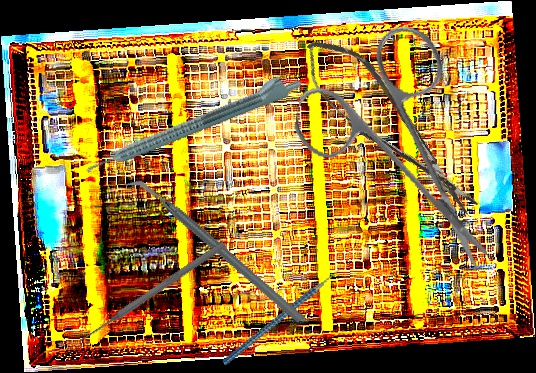Chopper: (123, 137, 307, 365), (202, 255, 365, 366)
Handpiece: (79, 66, 306, 178)
Iris Scissors: (274, 8, 527, 271)
Micro Scissor: (290, 22, 490, 234)
Pusher: (76, 239, 228, 346)
